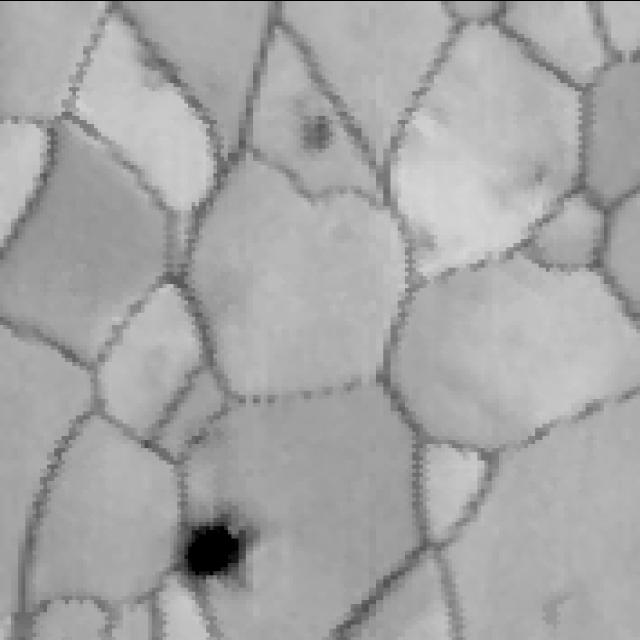good_void: (174, 500, 258, 603), (484, 139, 563, 212), (128, 27, 187, 99), (291, 97, 342, 160), (403, 209, 442, 255)
